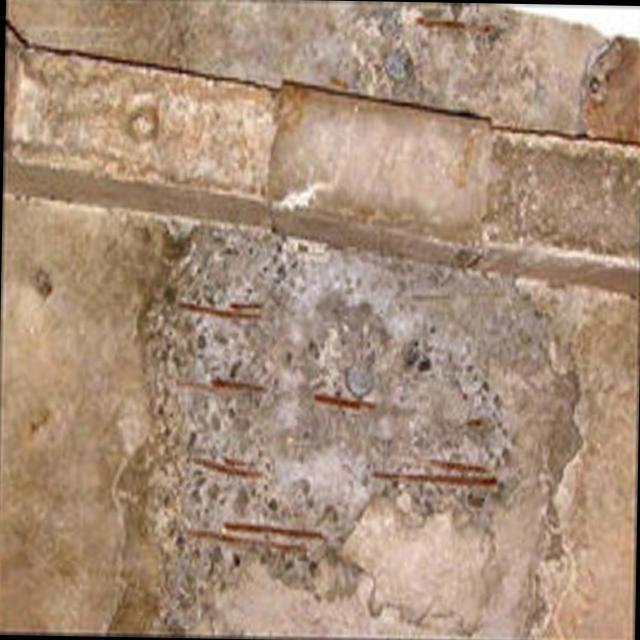spalling: (155, 235, 505, 599), (352, 2, 539, 102)
